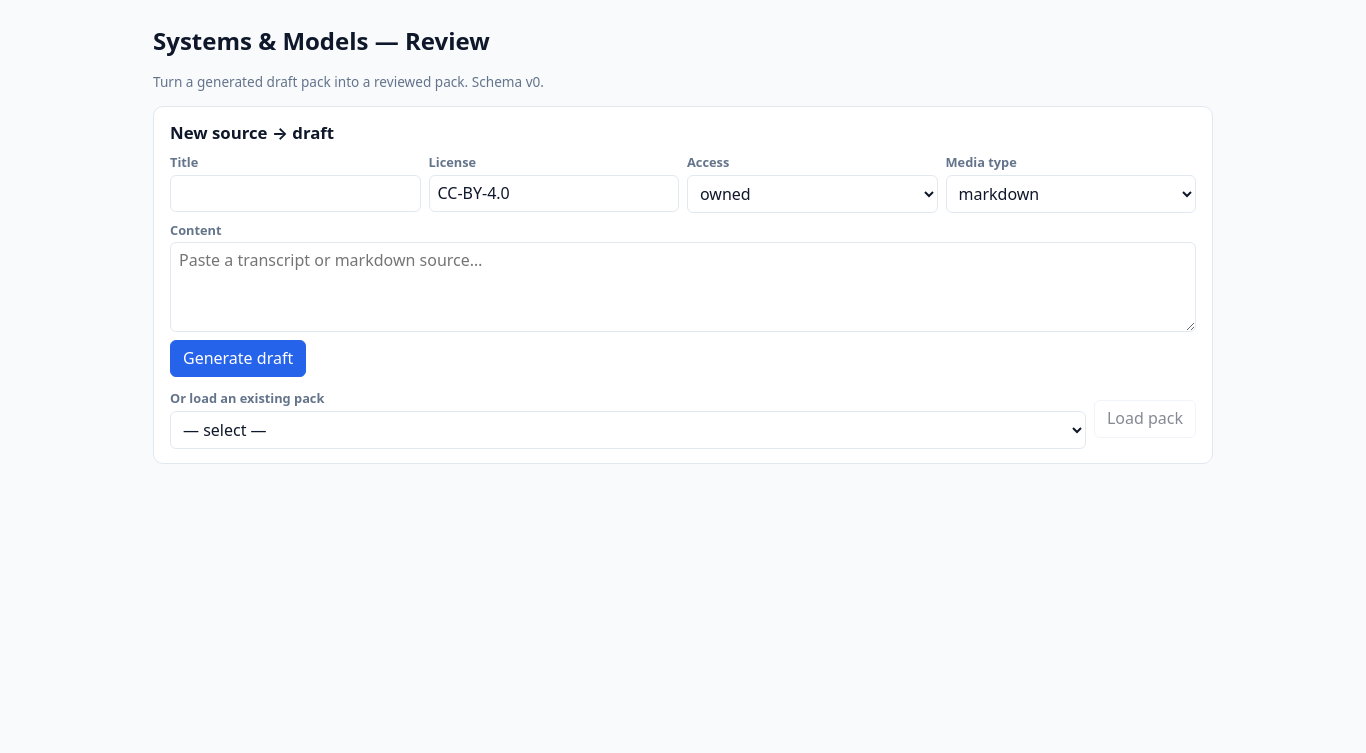
load existing pack uses real validation (bd-14) › loads a pack whose validate() reports a structural error and blocks save
The image size is (1366, 753).
Select "Pack: Learning (0.1.0)" in the dropdown named "Existing packs" at coordinates (628, 430), box x1=170 y1=411 x2=1086 y2=449
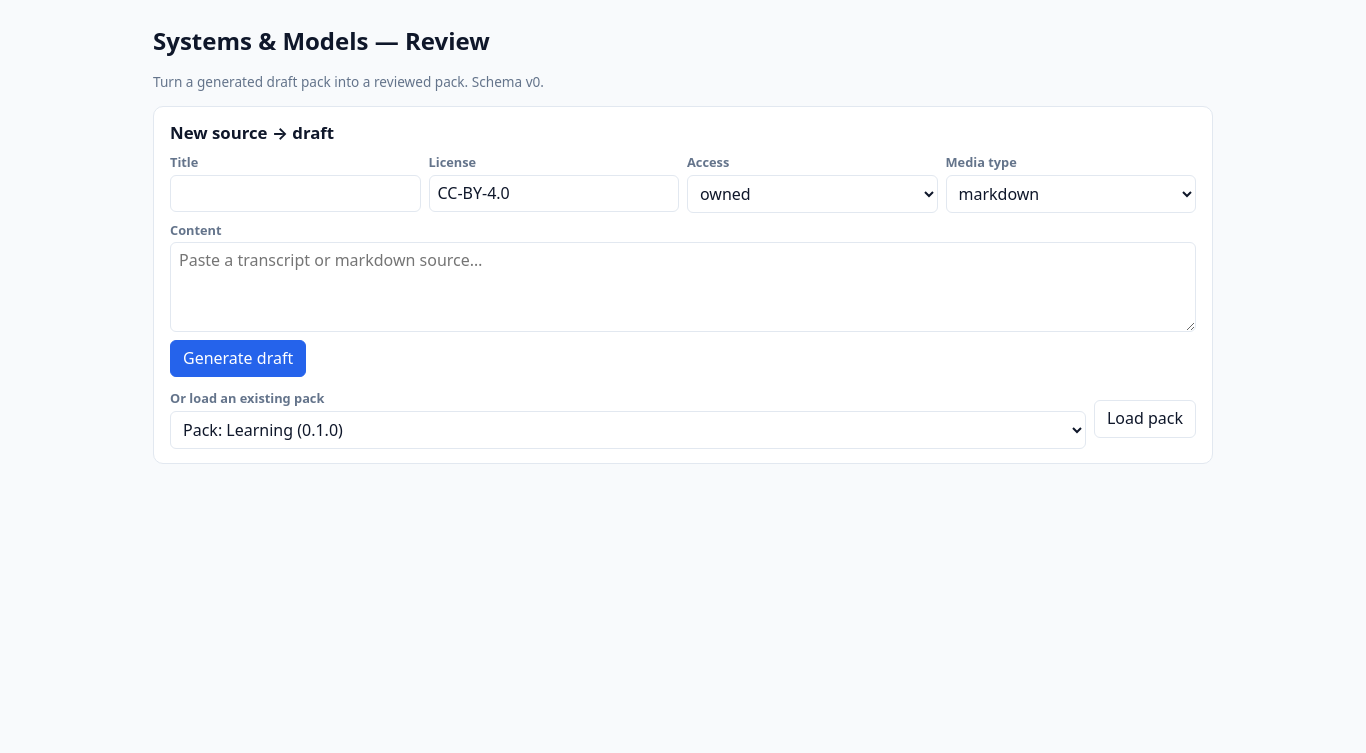
Click the button "Load pack".
click(1145, 419)  # box x1=1094 y1=400 x2=1196 y2=438
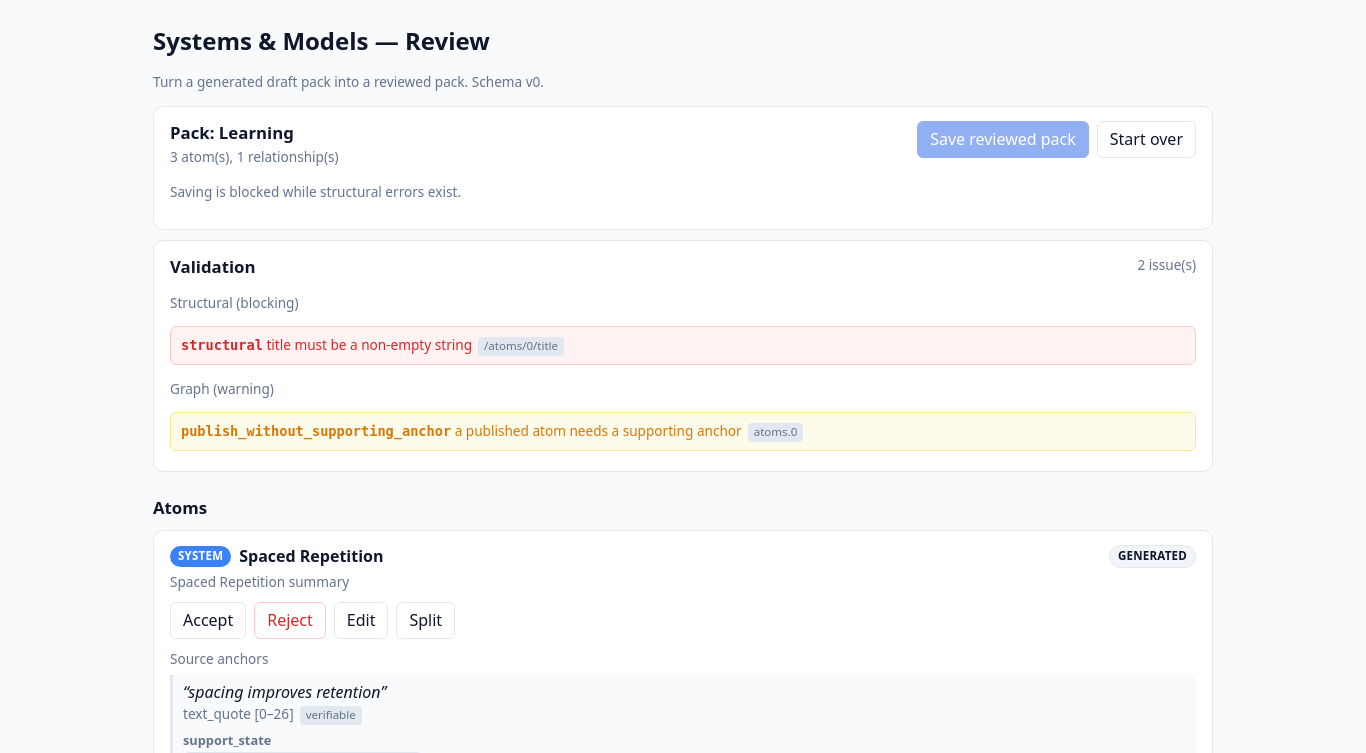
Expected: the heading "Pack: Learning" is shown, x1=170 y1=121 x2=294 y2=144
Expected: the list item "structural title must be a non-empty string /atoms/0/title" is shown, x1=170 y1=326 x2=1196 y2=365
Expected: the button with test id "save-reviewed" is disabled, x1=917 y1=121 x2=1089 y2=158
